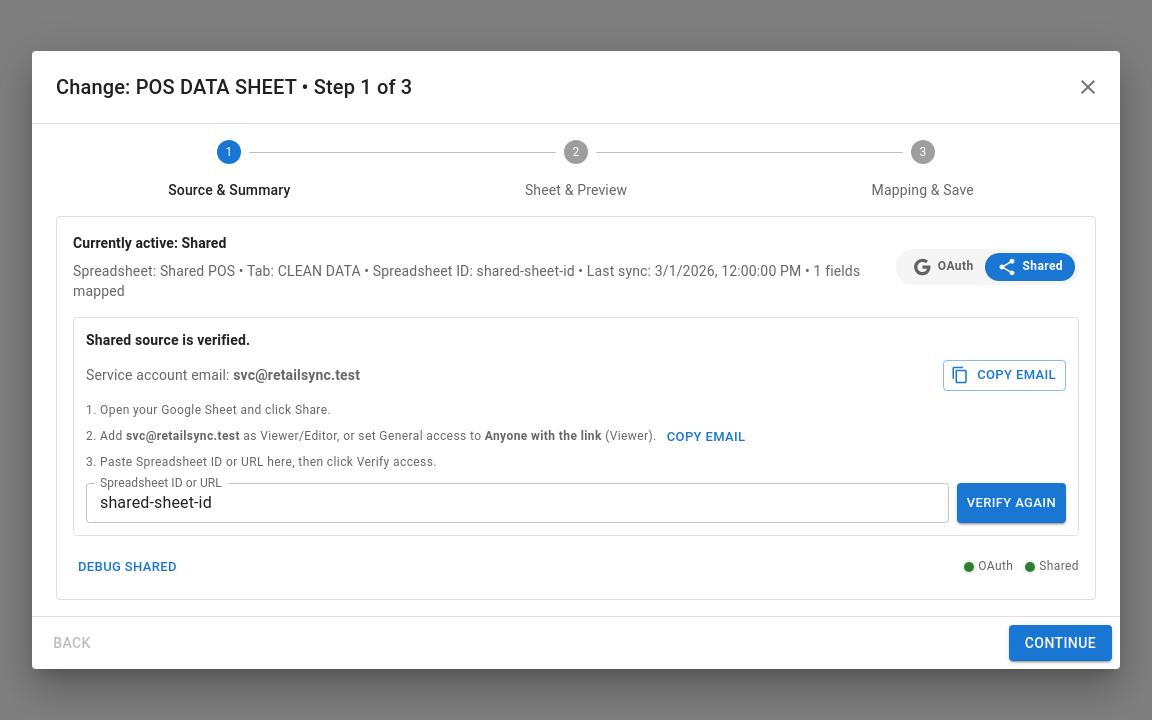
GoogleSheetsSetupInline › shows current summary and updates staged source selection
The image size is (1152, 720).
Check: the heading "Currently active: Shared" is shown, box [73, 235, 226, 251]
Step 1. Click the button with aria-label "OAuth source" → [943, 267], box [900, 253, 986, 281]
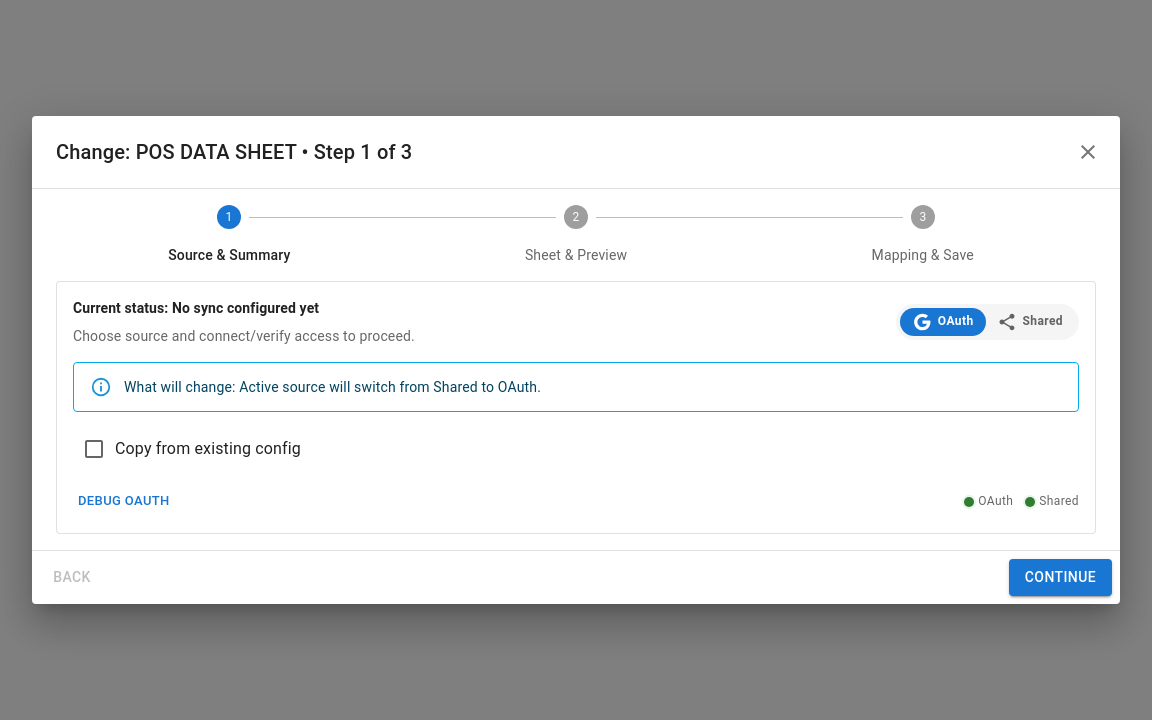
Check: the text "Active source will switch from Shared to OAuth" is shown, box [124, 379, 541, 395]
